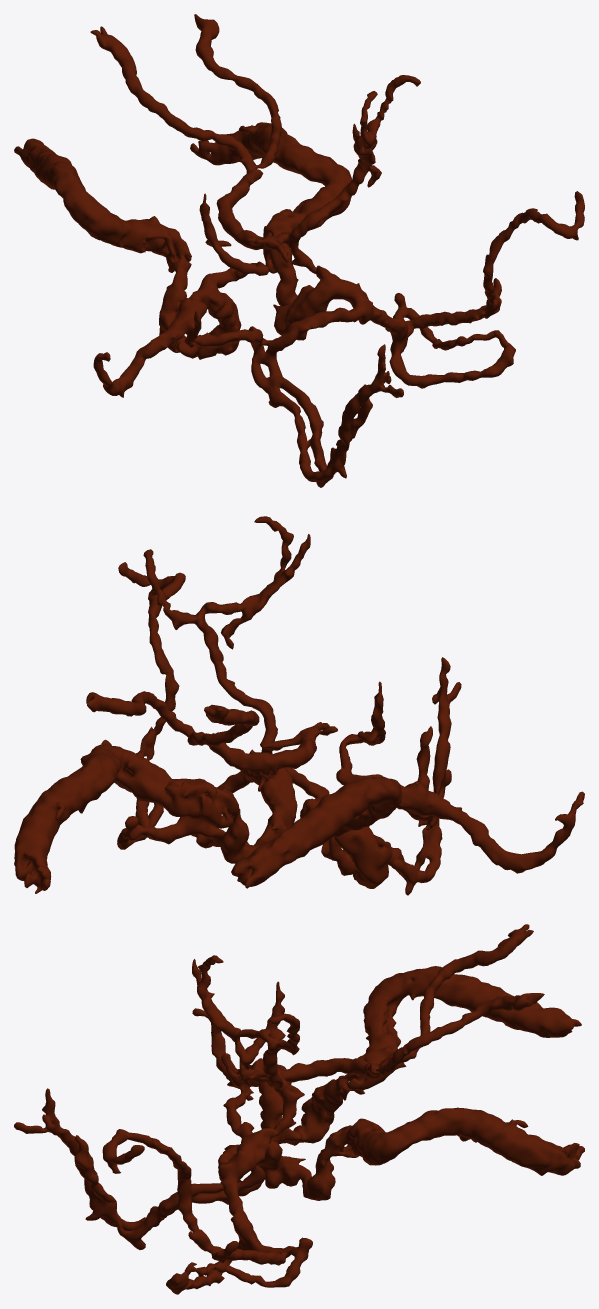
File: Arteries.obj
3 views of the same model, one above another, from view 1: azimuth 30°, elevation 25°; view 2: azimuth 150°, elevation 25°; view 3: azimuth 270°, elevation 25° (orthographic). The views are drawn at different scales.
Visible parts, largest first — view 1: grp1; view 2: grp1; view 3: grp1.
Part boxes in pixels (x1,y1,x2,y2): grp1: (14, 14, 584, 487); grp1: (14, 516, 584, 895); grp1: (14, 924, 584, 1294).
Size of the model in its own units: 109 by 79.81 by 123.
